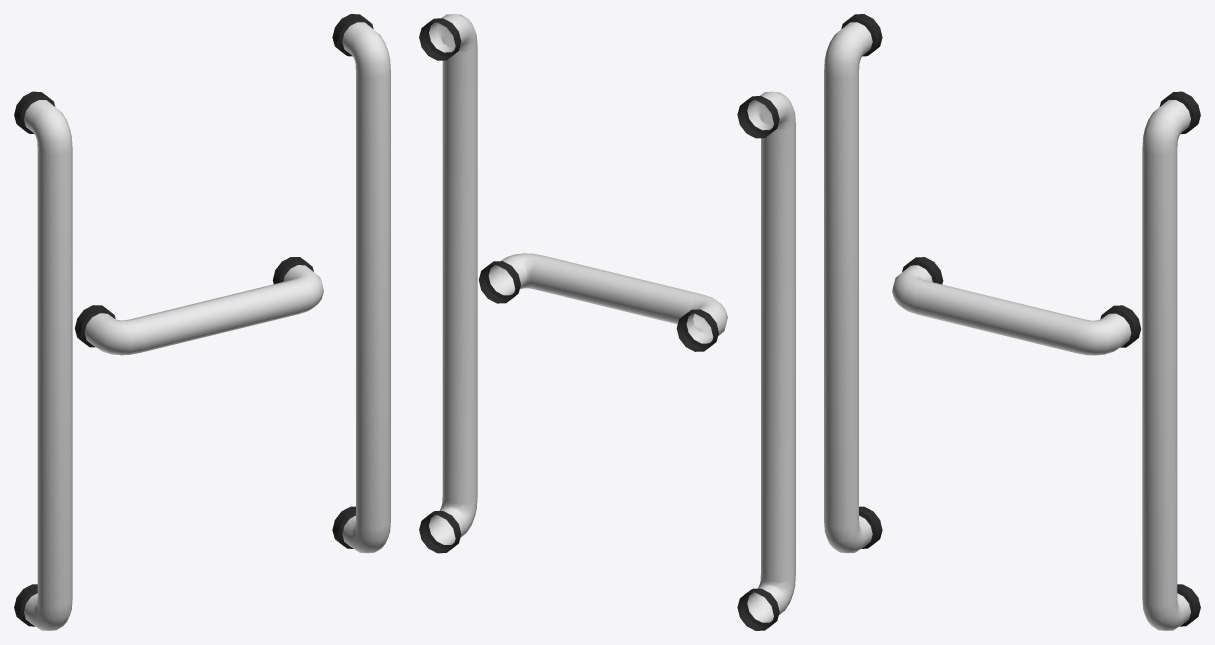
Rendered from LettersNeon01_H.FBX.
3 renders of one model, left to right at view 1: azimuth 30°, elevation 25°; view 2: azimuth 150°, elevation 25°; view 3: azimuth 330°, elevation 25°, orthographic.
Visible parts, largest first — view 1: LettersNeon01_H; view 2: LettersNeon01_H; view 3: LettersNeon01_H.
Part boxes in pixels (<box>): LettersNeon01_H: <box>14,14,390,630</box>; LettersNeon01_H: <box>419,14,795,630</box>; LettersNeon01_H: <box>824,14,1200,630</box>.
Size of what is drawn, in the model's own units: 0.352 by 0.503 by 0.054.
